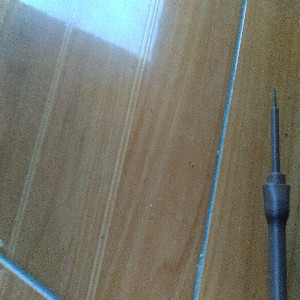solder: (262, 86, 291, 300)
